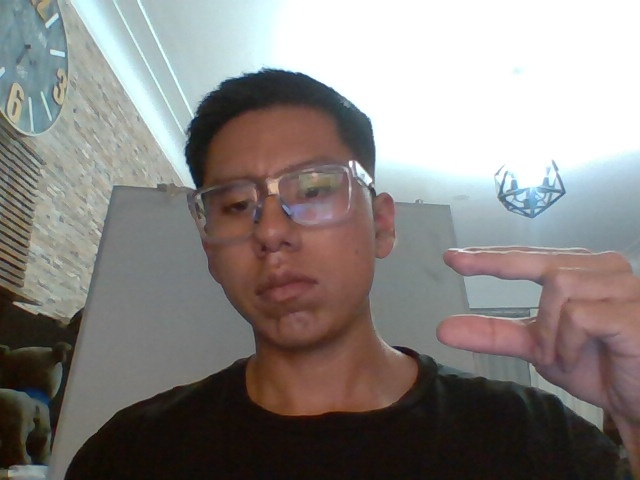No: (436, 246, 640, 423)
